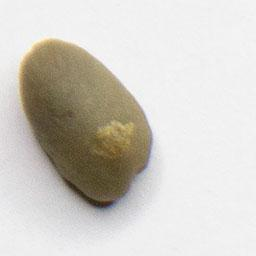peaberry: (15, 33, 156, 204)
